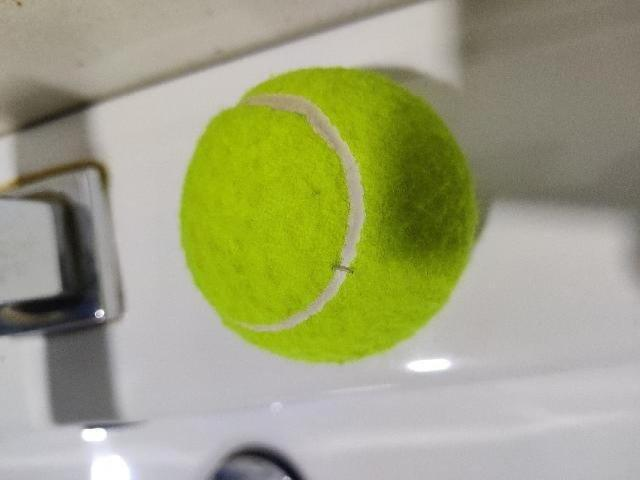tennis-ball: (177, 66, 481, 364)
